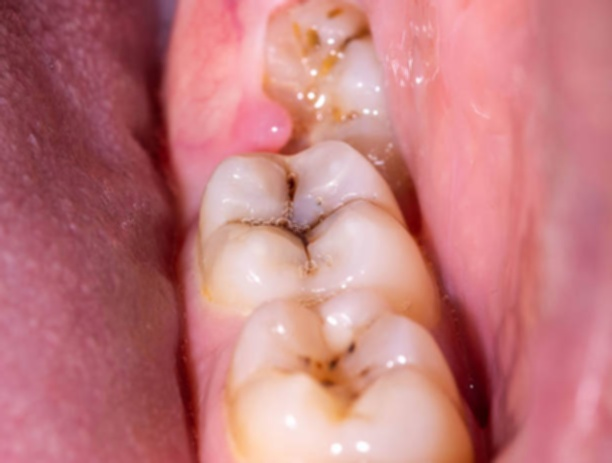Caries: (233, 159, 334, 267), (288, 338, 397, 421)
